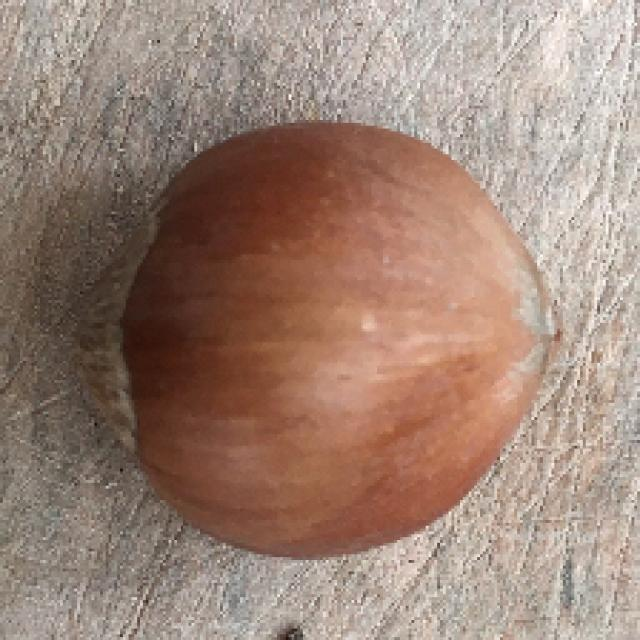damagedHazelnut: (54, 118, 572, 568)
